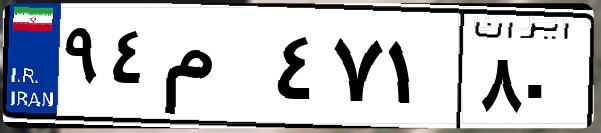0: (525, 38, 570, 115)
1: (385, 28, 445, 110)
4: (270, 28, 330, 110), (110, 28, 158, 98)
7: (330, 28, 385, 110)
8: (475, 38, 525, 113)
9: (57, 26, 110, 100)
م: (158, 20, 270, 120)
